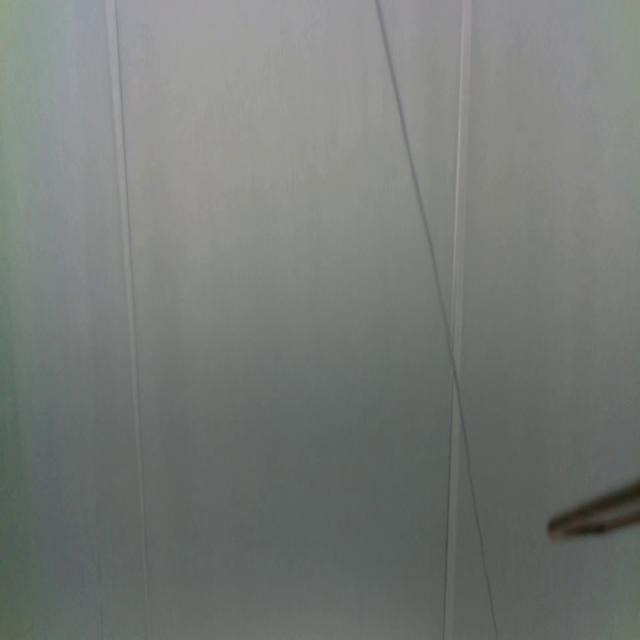crease: (373, 2, 501, 640), (106, 0, 150, 604), (442, 0, 474, 639)
